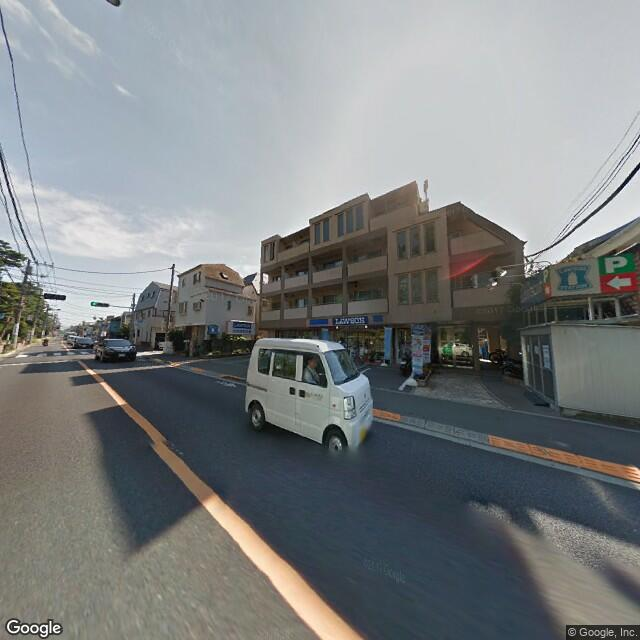lawson: (552, 258, 596, 295), (304, 310, 379, 330)
